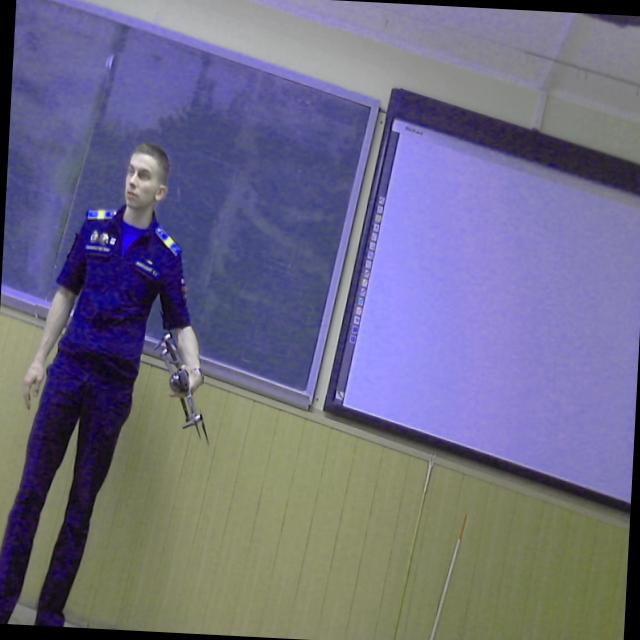drone: (148, 310, 222, 463)
